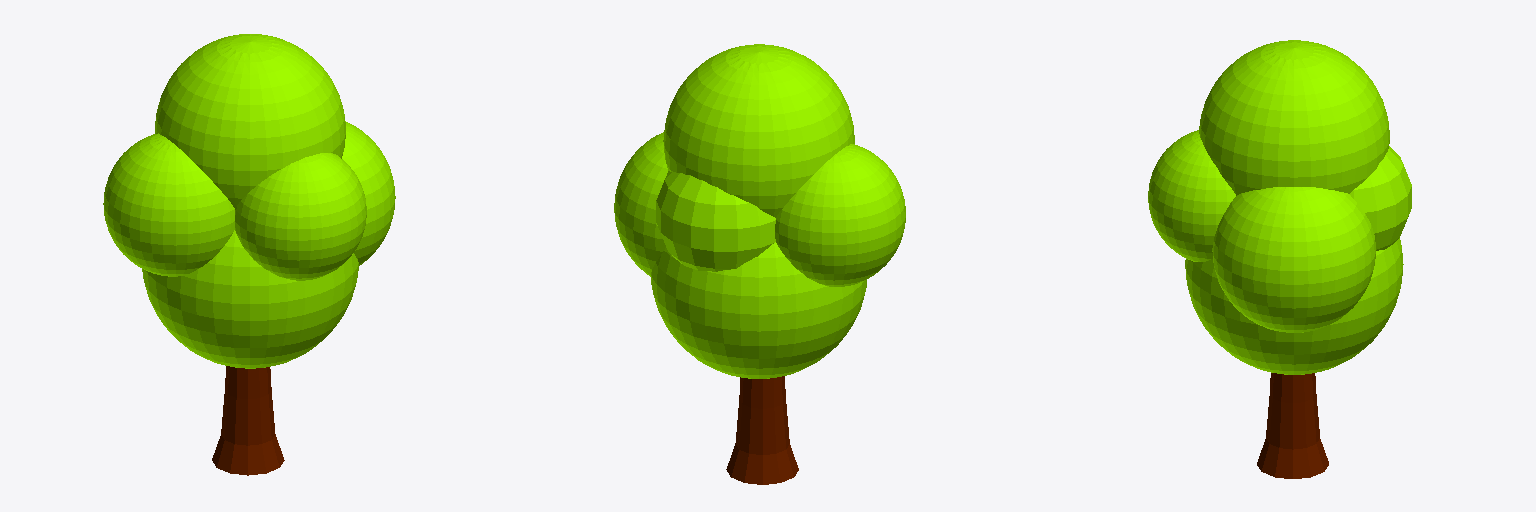
File: multipleroundtree.obj
3 views of the same model, side by side, from view 1: azimuth 30°, elevation 25°; view 2: azimuth 150°, elevation 25°; view 3: azimuth 270°, elevation 25° (orthographic).
Parts seen in each view (by area): view 1: Cartoon_tree_3; view 2: Cartoon_tree_3; view 3: Cartoon_tree_3.
Part boxes in pixels (x1,y1,x2,y2): Cartoon_tree_3: (103,34,395,475); Cartoon_tree_3: (614,44,905,484); Cartoon_tree_3: (1148,40,1411,478).
Size of the model in its own units: 170 by 249 by 143.